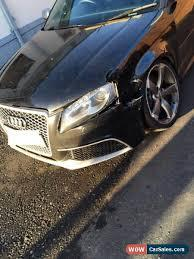fender-dent: (110, 50, 153, 106)
